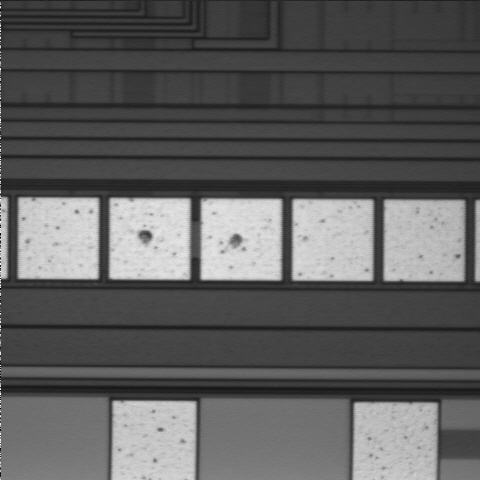pad: (201, 199, 281, 280), (110, 199, 190, 279), (293, 200, 373, 280), (19, 198, 98, 279), (384, 201, 463, 281)
